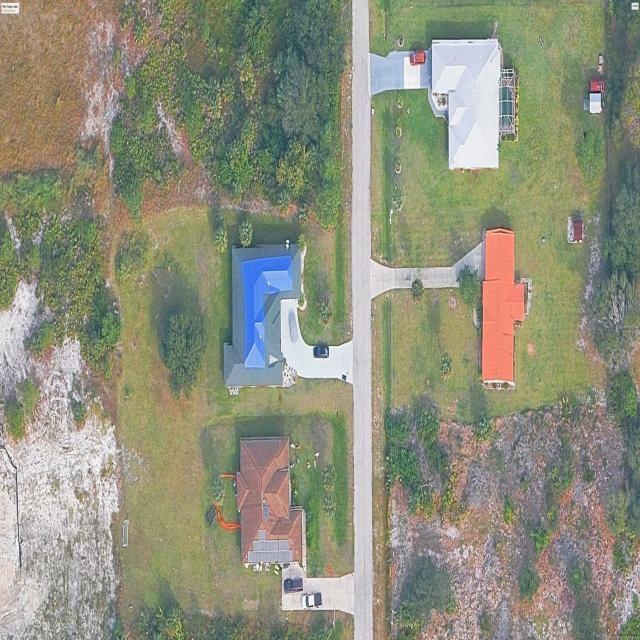Home: (223, 243, 301, 388), (431, 39, 502, 169), (236, 437, 306, 564), (482, 228, 525, 386)
